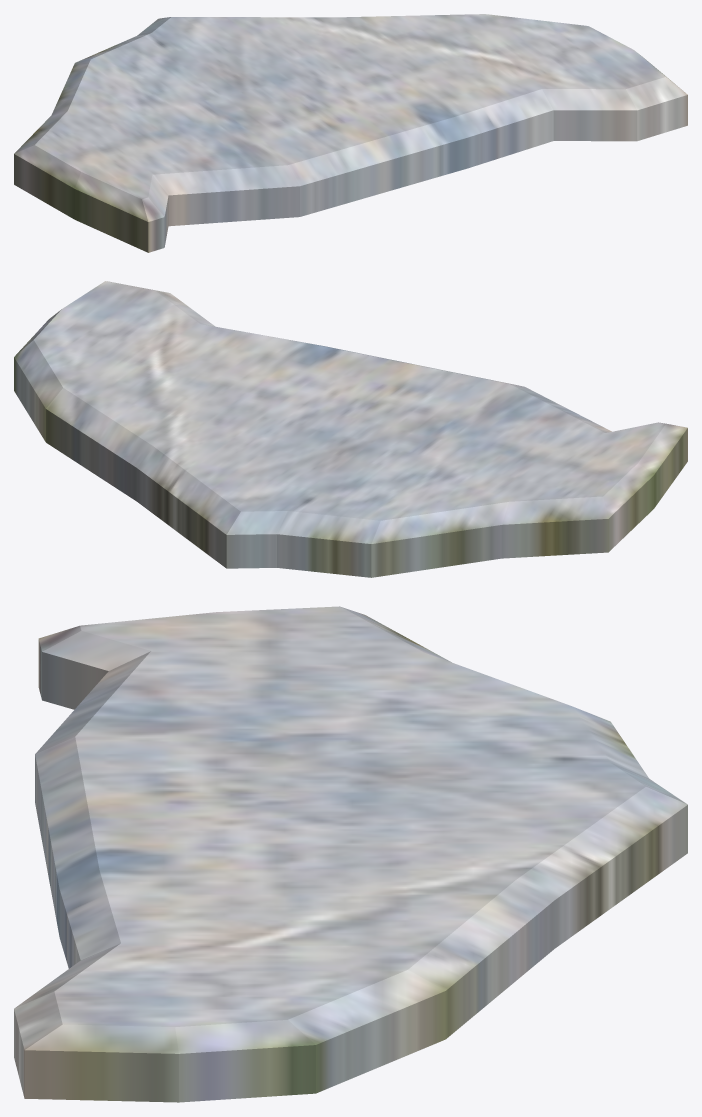
Rendered from stone.01.fbx.
3 views of the same model, one above another, from view 1: azimuth 30°, elevation 25°; view 2: azimuth 150°, elevation 25°; view 3: azimuth 270°, elevation 25° (orthographic). The views are drawn at different scales.
Parts seen in each view (by area): view 1: stone.01; view 2: stone.01; view 3: stone.01.
Boxes of the visible parts, x1,y1,x2,y2 form: stone.01: (14, 14, 687, 252); stone.01: (14, 281, 687, 577); stone.01: (14, 606, 687, 1102).
Size of the model in its own units: 137 by 9.74 by 89.09.
1 material, 1 textured.
